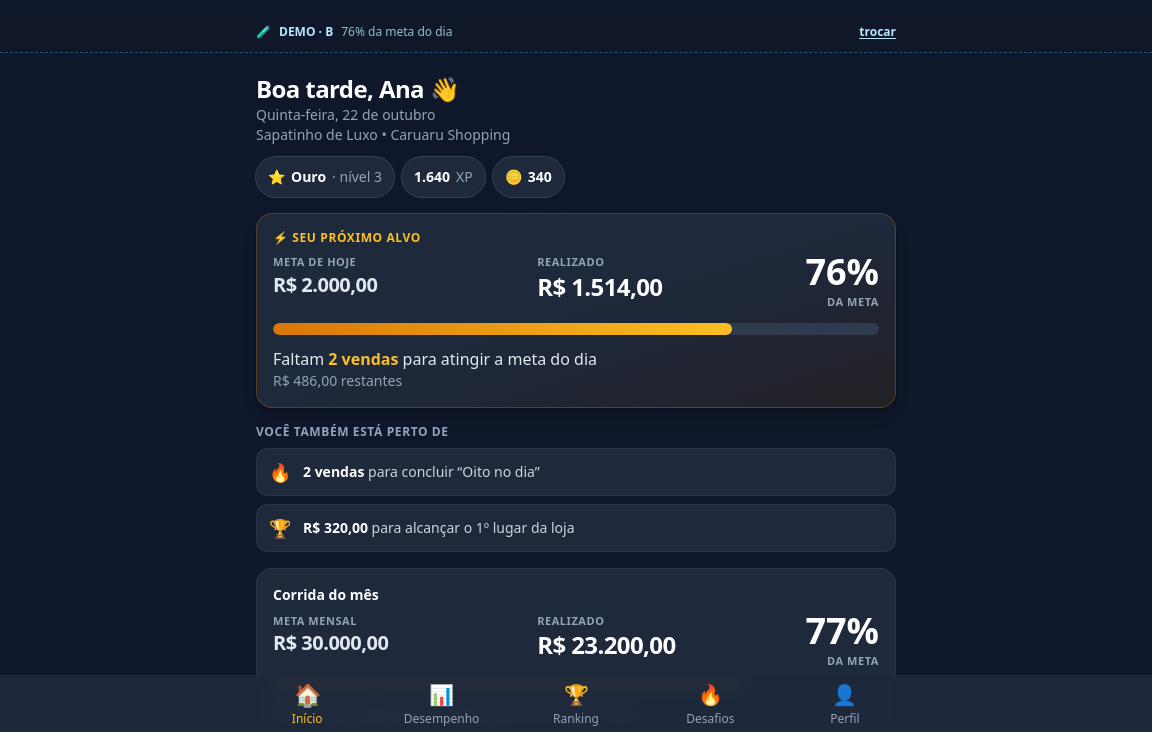
Test: Fase 1 — navegação mobile com Voltar explícito › Home → Ranking (navegação inferior) → aba Geral → Início
Click the link "🏆 Ranking" at (576, 704), box 553,681 -> 599,727
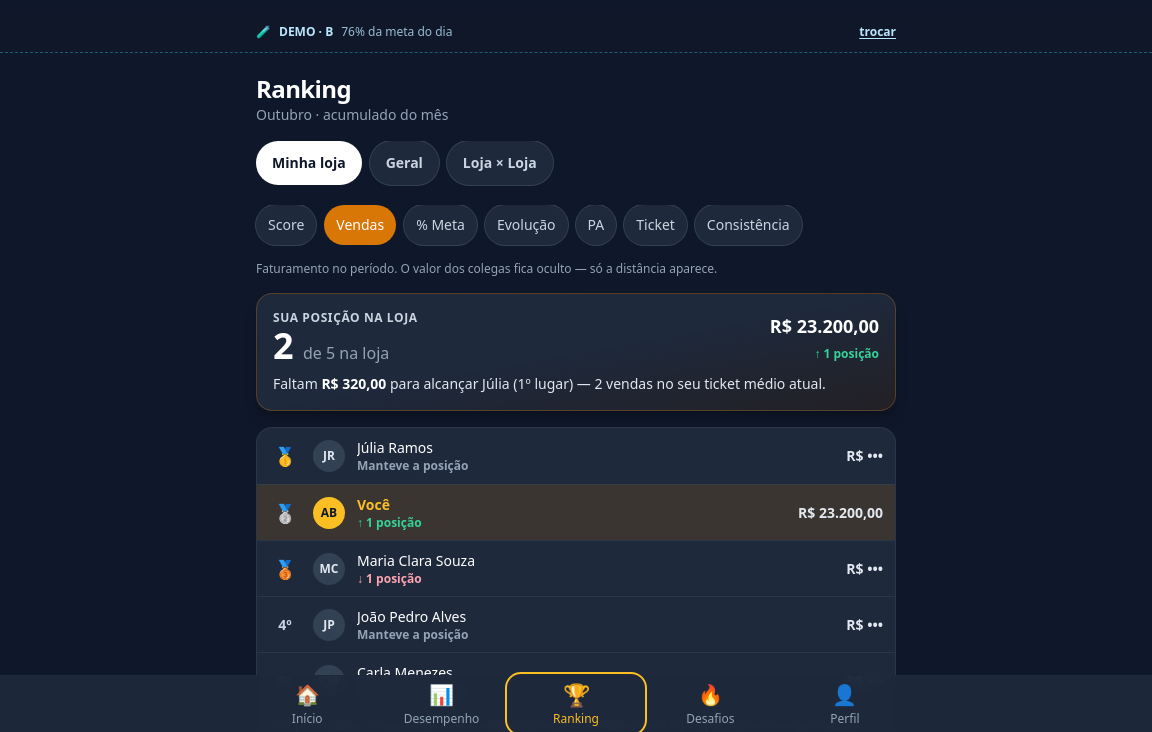
Click the tab "Geral" at (404, 163), box 370,141 -> 439,185
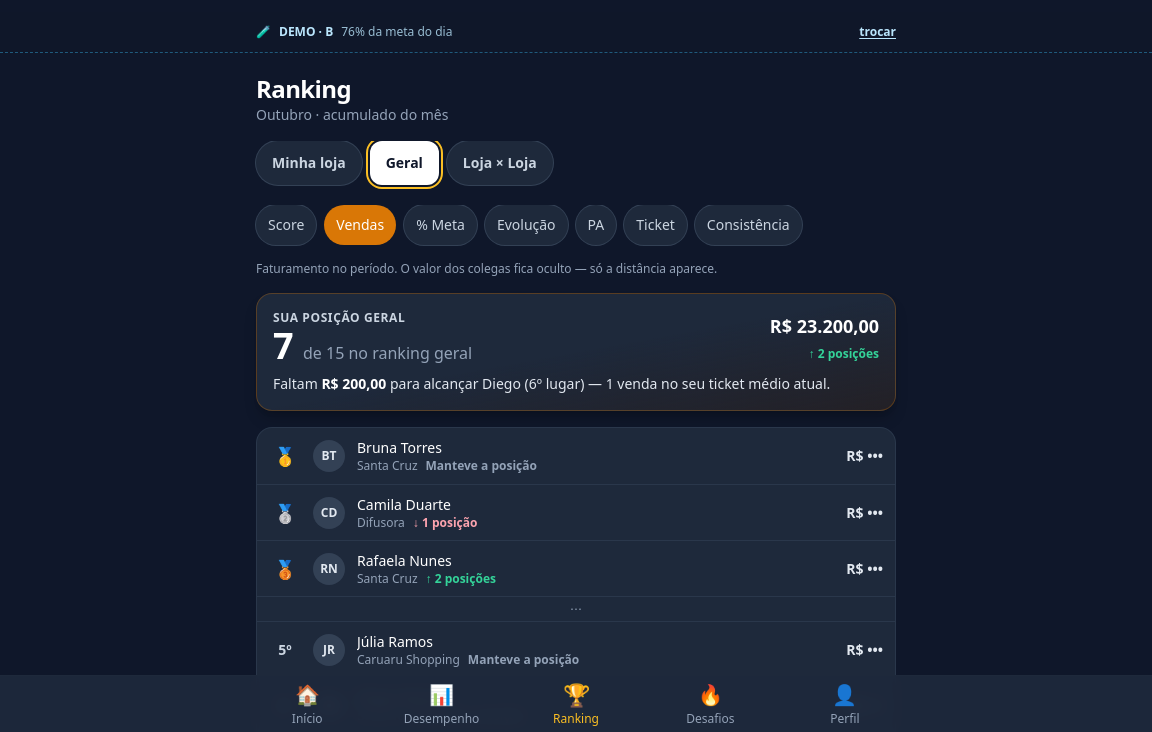
Check: the element "Sua posição" shows "7 de 15 no ranking geral", box 256,293 -> 896,411
Click the link "🏠 Início" at (307, 704), box 292,681 -> 322,727
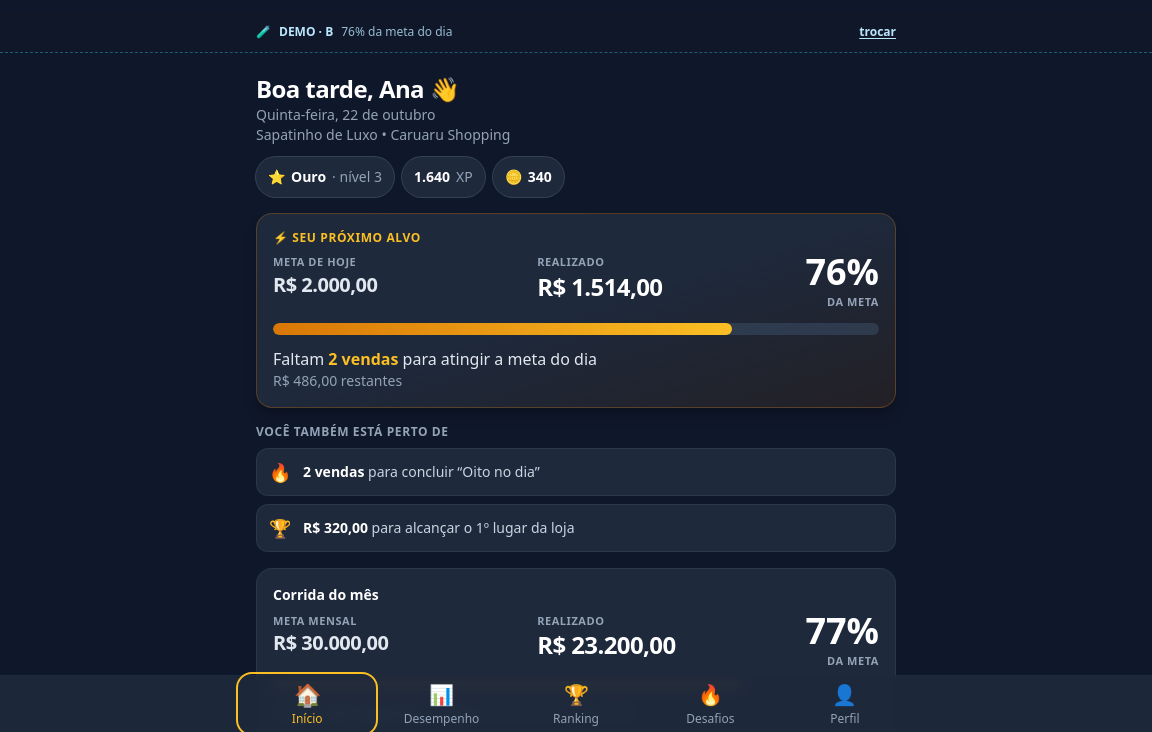
Check: the element "Meta de hoje" is shown, box 256,213 -> 896,408
